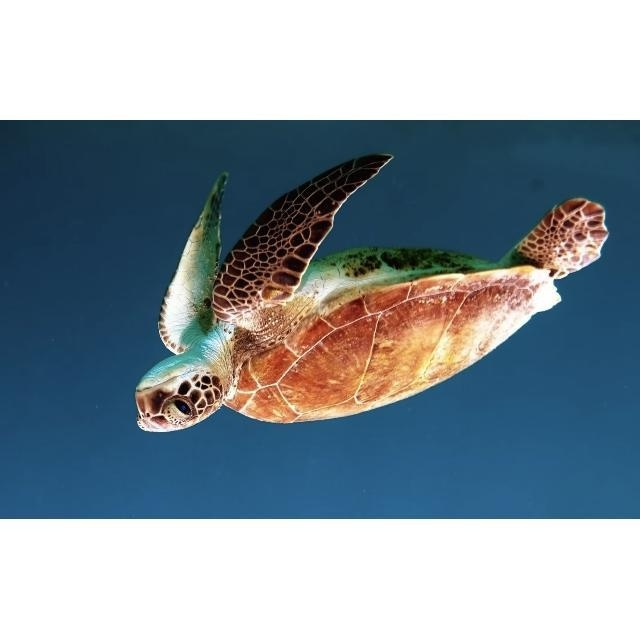turtle: (133, 151, 611, 435)
